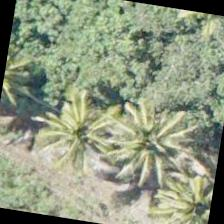Kelapa_Sawit: (84, 96, 187, 200), (18, 77, 120, 180), (133, 149, 219, 223)
